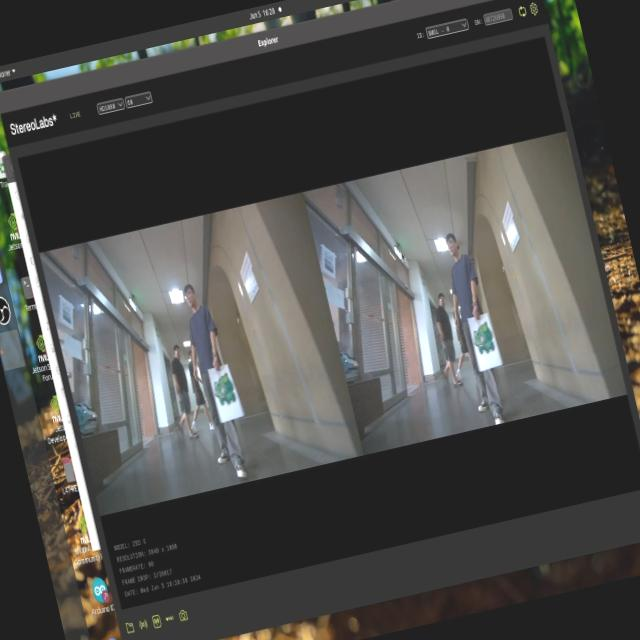green: (203, 358, 245, 411), (462, 310, 500, 366)
